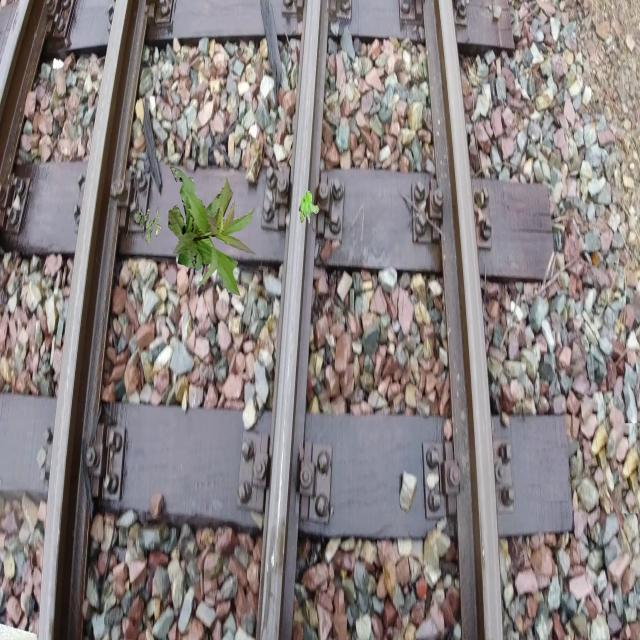Plant: (168, 167, 256, 297), (134, 205, 162, 246), (299, 191, 320, 224)
